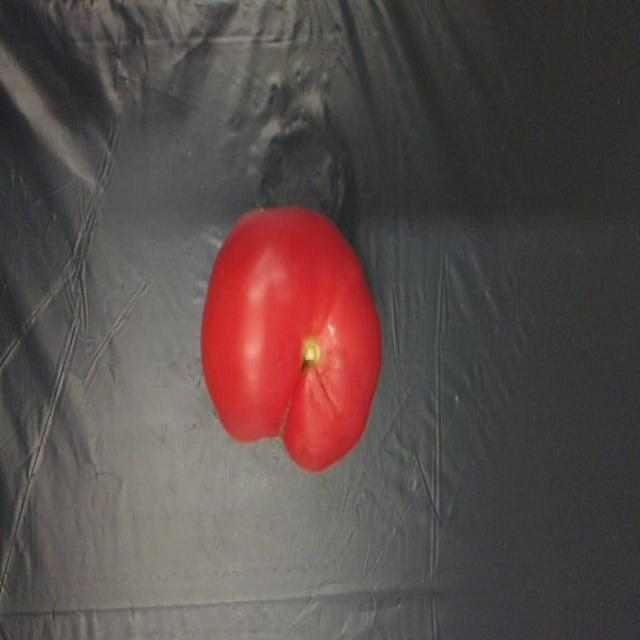kirmizi: (188, 192, 386, 459)
